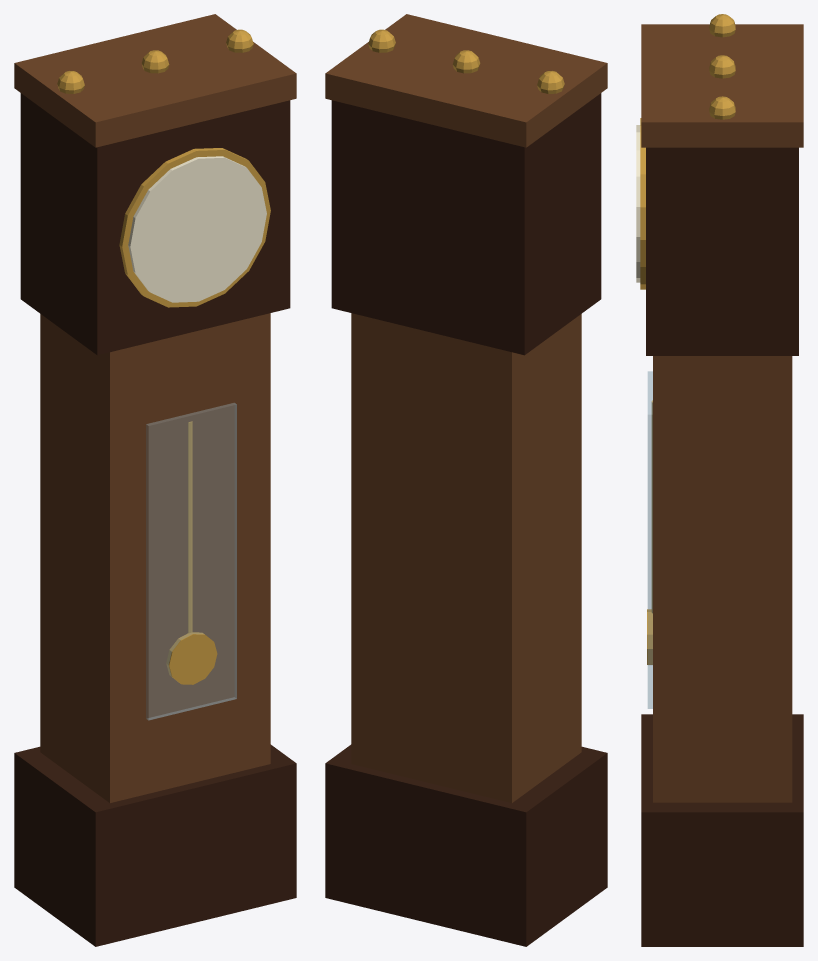
File: relogio_pendulo.obj
3 renders of one model, left to right at view 1: azimuth 30°, elevation 25°; view 2: azimuth 150°, elevation 25°; view 3: azimuth 270°, elevation 25°, orthographic.
Visible parts, largest first — view 1: parte_01_madeira, parte_00_madeira_escura, parte_05_madeira_escura, parte_02_vidro, parte_10_madeira, parte_06_mostrador, parte_07_latao, parte_04_latao, parte_03_latao; view 2: parte_01_madeira, parte_05_madeira_escura, parte_00_madeira_escura, parte_10_madeira; view 3: parte_01_madeira, parte_05_madeira_escura, parte_00_madeira_escura, parte_10_madeira, parte_02_vidro, parte_07_latao, parte_06_mostrador, parte_13_latao, parte_12_latao, parte_11_latao, parte_03_latao.
Part boxes in pixels (x1=…): parte_01_madeira: x1=40, y1=313, x2=270, y2=802; parte_00_madeira_escura: x1=14, y1=744, x2=296, y2=946; parte_05_madeira_escura: x1=20, y1=93, x2=290, y2=355; parte_02_vidro: x1=146, y1=403, x2=236, y2=720; parte_10_madeira: x1=14, y1=14, x2=296, y2=147; parte_06_mostrador: x1=128, y1=156, x2=266, y2=302; parte_07_latao: x1=119, y1=148, x2=270, y2=307; parte_04_latao: x1=166, y1=632, x2=217, y2=684; parte_03_latao: x1=188, y1=421, x2=192, y2=633; parte_01_madeira: x1=351, y1=313, x2=581, y2=802; parte_05_madeira_escura: x1=331, y1=93, x2=601, y2=355; parte_00_madeira_escura: x1=325, y1=744, x2=607, y2=946; parte_10_madeira: x1=325, y1=14, x2=607, y2=147; parte_01_madeira: x1=653, y1=356, x2=792, y2=802; parte_05_madeira_escura: x1=646, y1=147, x2=798, y2=355; parte_00_madeira_escura: x1=641, y1=714, x2=803, y2=946; parte_10_madeira: x1=641, y1=24, x2=803, y2=147; parte_02_vidro: x1=647, y1=371, x2=652, y2=708; parte_07_latao: x1=640, y1=118, x2=645, y2=289; parte_06_mostrador: x1=636, y1=125, x2=640, y2=282; parte_13_latao: x1=709, y1=96, x2=735, y2=119; parte_12_latao: x1=709, y1=55, x2=735, y2=78; parte_11_latao: x1=709, y1=14, x2=735, y2=37; parte_03_latao: x1=651, y1=400, x2=652, y2=613.
Bounding box in the file's own units: 0.5 × 2 × 0.361.
